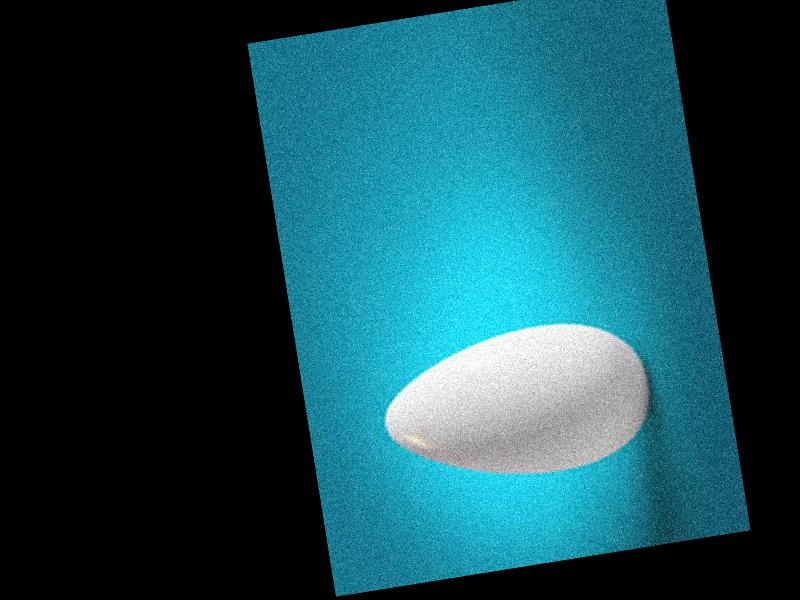Eggs: (375, 309, 660, 497)
